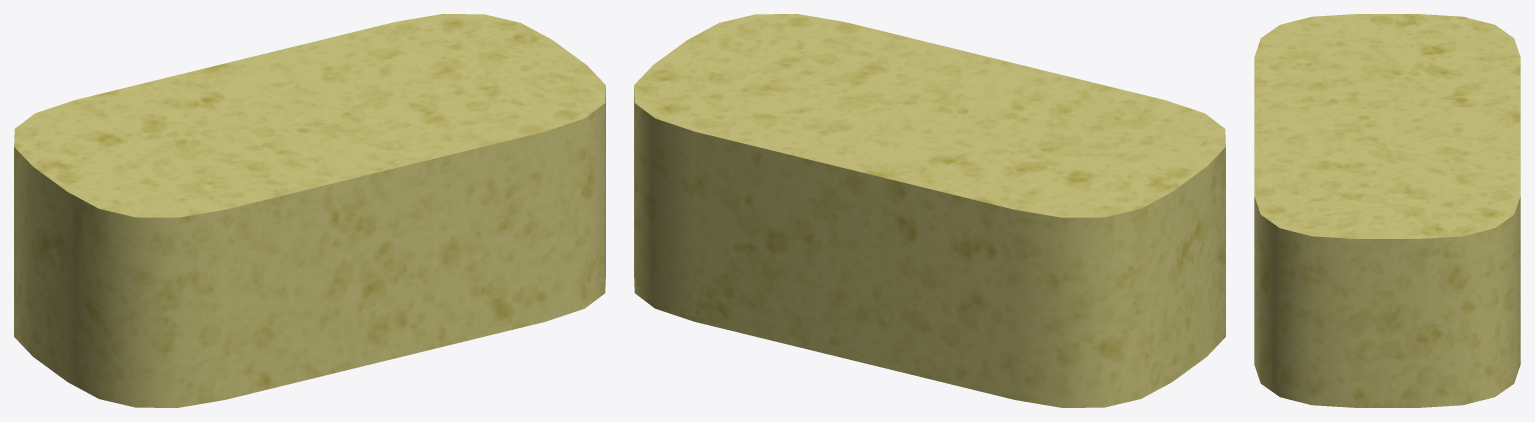
Rendered from Sponge_A.fbx.
3 renders of one model, left to right at view 1: azimuth 30°, elevation 25°; view 2: azimuth 150°, elevation 25°; view 3: azimuth 270°, elevation 25°, orthographic. The views are drawn at different scales.
Visible parts, largest first — view 1: Sponge_A; view 2: Sponge_A; view 3: Sponge_A.
Boxes of the visible parts, bbox=[...] form: Sponge_A: bbox=[14, 14, 605, 407]; Sponge_A: bbox=[634, 14, 1225, 407]; Sponge_A: bbox=[1254, 14, 1520, 407].
Bounding box in the file's own units: 20 × 7 × 10.
